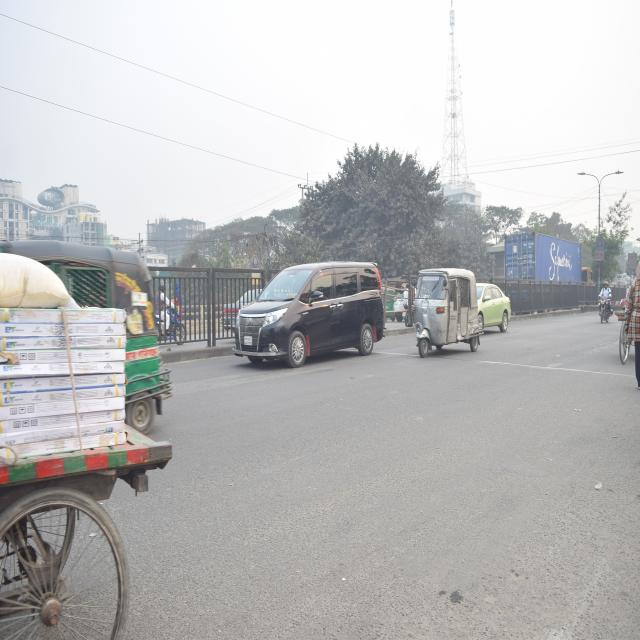car: (224, 257, 388, 376), (474, 279, 514, 339)
motorbike: (502, 228, 596, 308), (592, 284, 616, 330)
